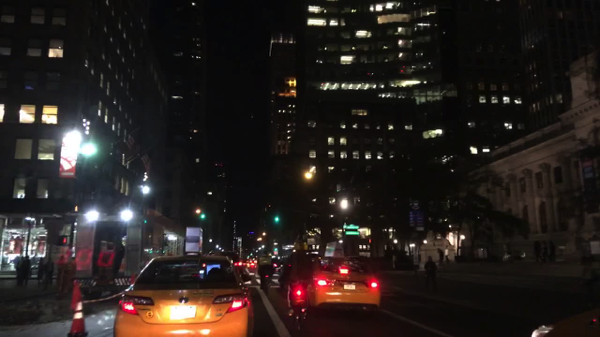car: (111, 250, 256, 337), (303, 241, 382, 322), (530, 305, 599, 337), (275, 252, 324, 292), (206, 248, 252, 286), (271, 257, 285, 273), (245, 260, 258, 271)
motor: (278, 272, 314, 333), (257, 264, 275, 296)
person: (54, 248, 75, 301), (579, 255, 598, 312), (423, 255, 440, 294), (112, 236, 125, 273), (531, 239, 544, 264), (21, 254, 31, 286), (537, 240, 550, 264), (546, 240, 557, 265), (46, 256, 55, 286), (37, 257, 46, 286), (442, 244, 452, 270), (15, 256, 23, 286), (436, 247, 445, 266)
rider: (280, 240, 322, 319), (257, 250, 275, 293)
traffic light: (83, 140, 96, 160), (58, 234, 68, 247), (199, 212, 206, 222), (275, 215, 279, 225), (367, 237, 371, 245)
traffic sign: (408, 209, 425, 226), (305, 234, 322, 245), (409, 198, 422, 212), (163, 233, 177, 242), (342, 224, 360, 231), (344, 229, 359, 237), (412, 251, 419, 267), (412, 225, 425, 233)
truck: (69, 205, 186, 304)
